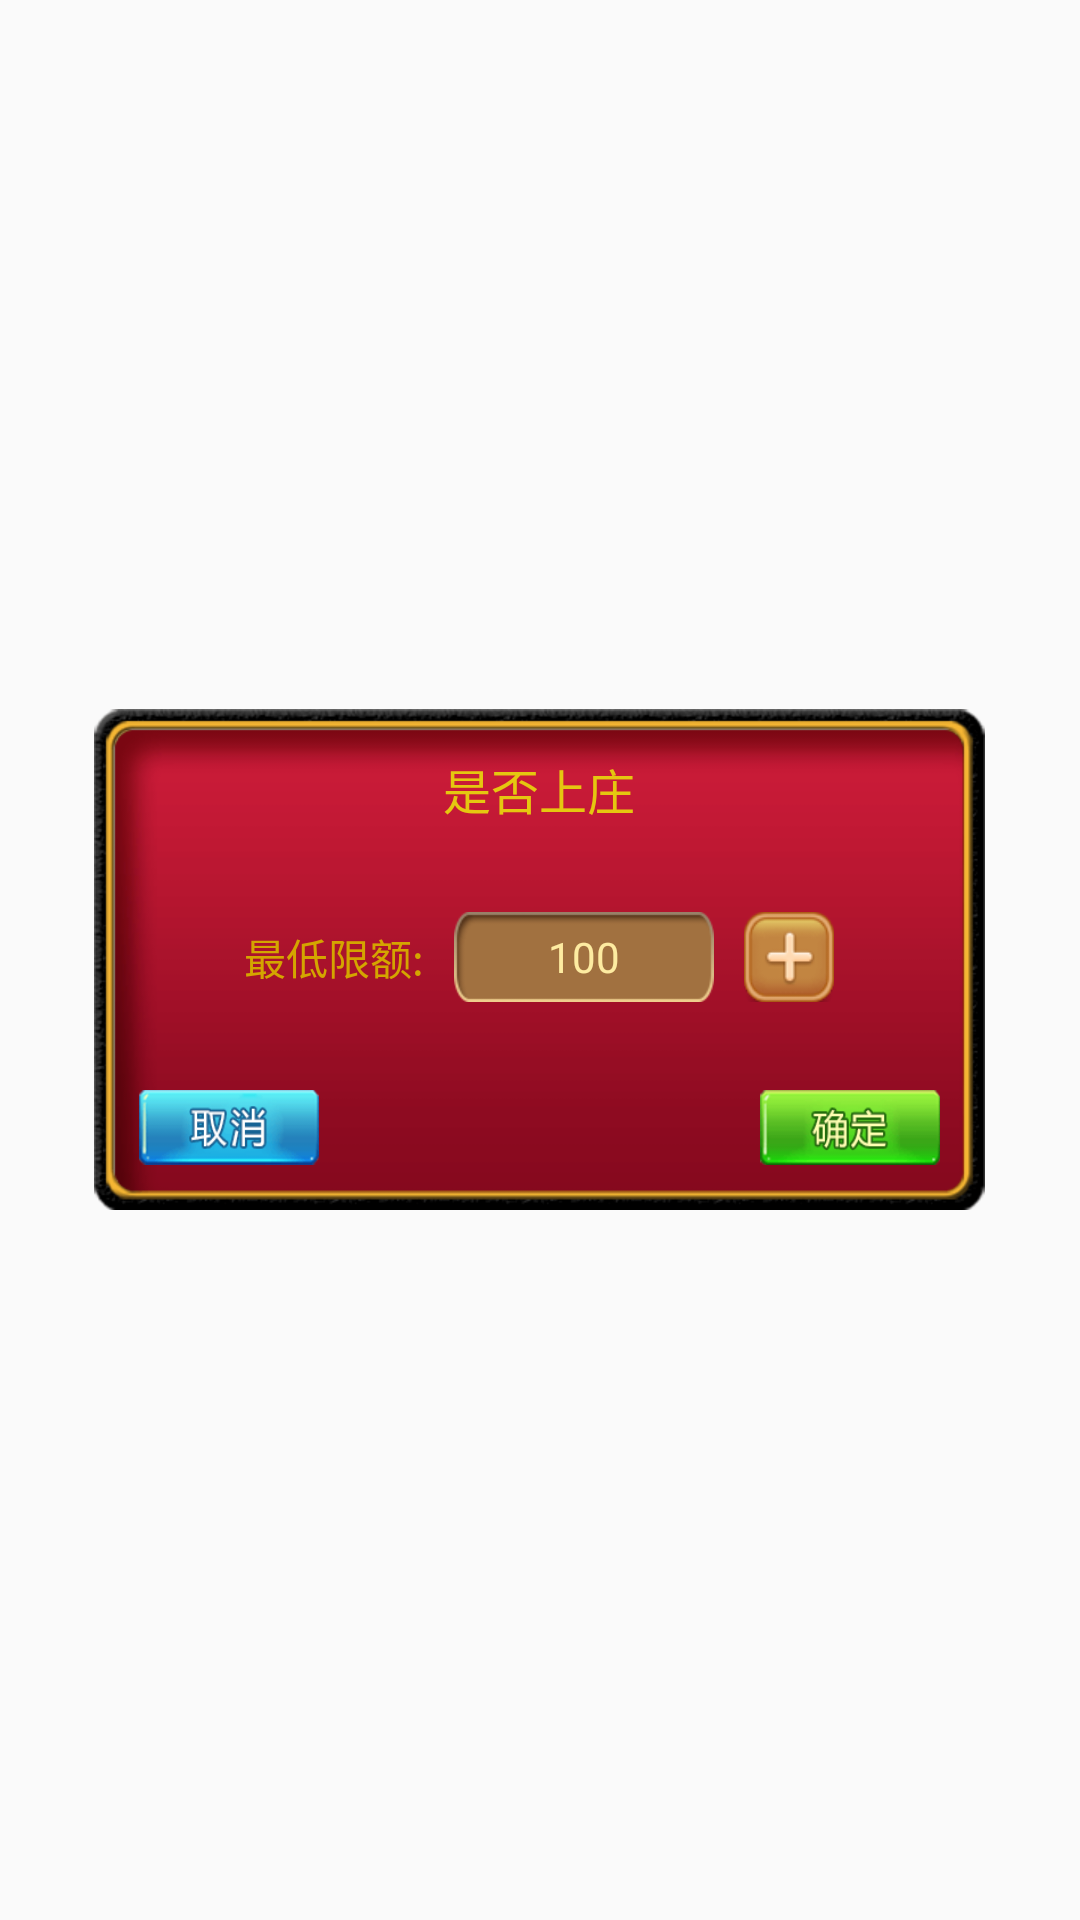

Screen size 1080 × 1920. Icon name, then its center in pixels as (x=x, y=y):
add: (x=789, y=957)
